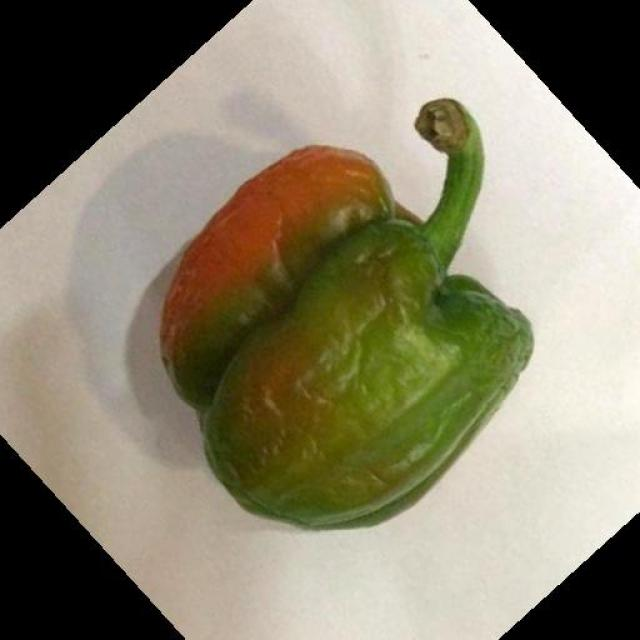Stale_Capsicum: (150, 88, 522, 536)
